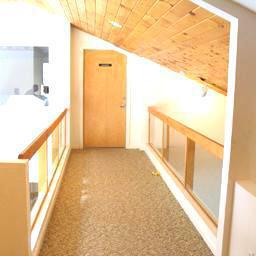Puerta: (83, 53, 123, 148)
